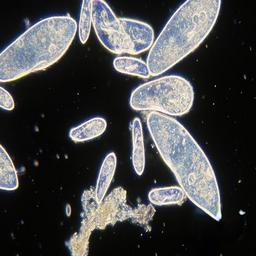Paramecium: (66, 153, 156, 255), (147, 112, 222, 221), (148, 0, 220, 73), (0, 17, 75, 80), (131, 76, 194, 115), (91, 1, 126, 52), (121, 20, 153, 50), (70, 118, 108, 141), (131, 118, 145, 176), (1, 145, 18, 189), (113, 57, 148, 77), (149, 187, 185, 205), (81, 0, 92, 42), (0, 87, 14, 111)
